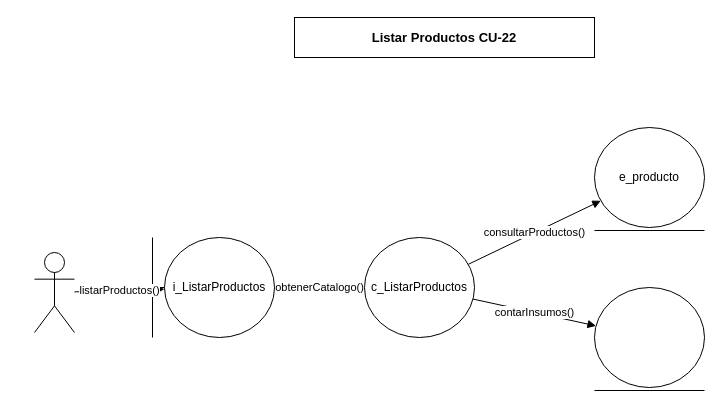
Some shapes in this 723 by 409 pixel diagram are drawn without their labels. The shapes that lost their labels are listed below. From the top down, each one's centre as x and y in pixels, then its label:
the point at 54,292: Administrador
the point at 649,337: e_receta
